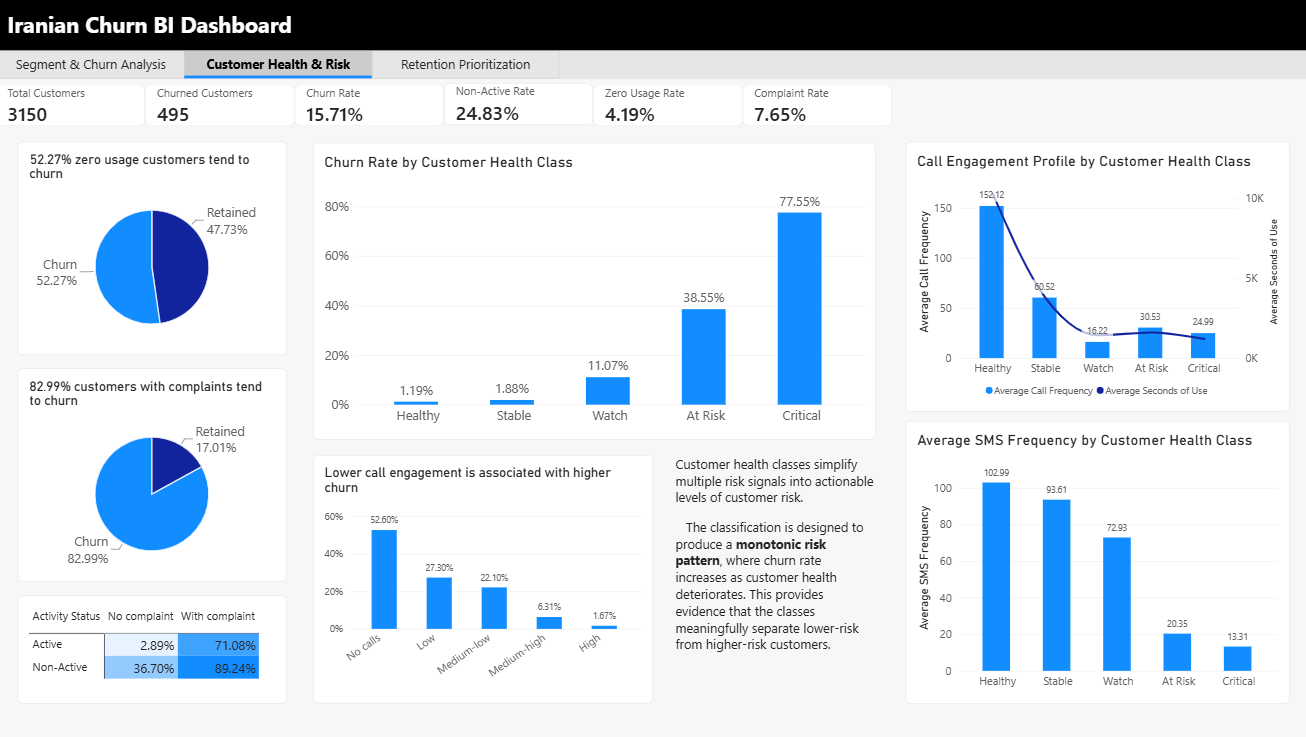

The dashboard page shown, as its layout file describes it:
{"tool":"powerbi","page":{"name":"Customer Health & Risk","canvas":[1920,1080],"ordinal":1},"visuals":[{"type":"group","id":"g1","title":"Group 2","box":[0,75,1918.3,43],"z":0,"group":"g4"},{"type":"cardVisual","fields":{"Data":["public customer_health_analytics.Zero Usage Rate"]},"box":[1421.7,221.3,213,149.1],"z":0},{"type":"group","id":"g2","title":"Group 3","box":[1.7,0,1918.3,75],"z":1000,"group":"g4"},{"type":"clusteredColumnChart","title":"Lower call engagement is associated with higher churn","fields":{"Category":["public customer_health_analytics.call_engagement_band"],"Y":["public customer_health_analytics.Churn Rate"]},"box":[462.7,667.2,497.3,363.5],"z":1000},{"type":"clusteredColumnChart","title":"Churn Rate by Customer Health Class","fields":{"Category":["public customer_health_analytics.health_class"],"Y":["public customer_health_analytics.Churn Rate"]},"box":[462.7,209.3,823,434.3],"z":2000},{"type":"lineClusteredColumnComboChart","title":"Call Engagement Profile by Customer Health Class","fields":{"Category":["public customer_health_analytics.health_class"],"Y":["public customer_health_analytics.Average Call Frequency"],"Y2":["public customer_health_analytics.Average Seconds of Use"]},"box":[1329.8,207.7,561.8,395],"z":3000},{"type":"clusteredColumnChart","title":"Average SMS Frequency by Customer Health Class","fields":{"Category":["public customer_health_analytics.health_class"],"Y":["public customer_health_analytics.Average SMS Frequency"]},"box":[1329.8,616.8,561.8,413.9],"z":4000},{"type":"shape","title":"csacasc","box":[1.7,0,1918.3,75],"z":5000,"group":"g2"},{"type":"pieChart","title":"52.27% zero usage customers tend to churn","fields":{"Category":["public customer_health_analytics.Churn Status"],"Y":["public customer_health_analytics.Zero Usage Customers"]},"box":[31.5,207.7,393.4,312],"z":5000},{"type":"shape","box":[0,75.5,1918.3,42.5],"z":6000,"group":"g1"},{"type":"pieChart","title":"82.99% customers with complaints tend to churn","fields":{"Category":["public customer_health_analytics.Churn Status"],"Y":["public customer_health_analytics.Complaint Customers"]},"box":[31.5,540,393,312],"z":6000},{"type":"cardVisual","fields":{"Data":["public customer_health_analytics.Total Customers"]},"box":[0,124.6,218,61],"z":7000,"group":"g3"},{"type":"pivotTable","fields":{"Columns":["public customer_health_analytics.Complaint"],"Rows":["public customer_health_analytics.Activity Status"],"Values":["public customer_health_analytics.Churn Rate"]},"box":[31.5,871.8,393.4,158.9],"z":7000},{"type":"cardVisual","fields":{"Data":["public customer_health_analytics.Churned Customers"]},"box":[218.7,124.6,218,61],"z":8000,"group":"g3"},{"type":"textbox","box":[993.3,667,292.2,364.1],"z":8000},{"type":"group","id":"g3","title":"Group 1","box":[0,123,1310.1,62.7],"z":9000},{"type":"cardVisual","fields":{"Data":["public customer_health_analytics.Churn Rate"]},"box":[436.7,124.7,218,61],"z":9000,"group":"g3"},{"type":"group","id":"g4","title":"Group 4","box":[0,0,1920,118],"z":10000},{"type":"cardVisual","fields":{"Data":["public customer_health_analytics.Complaint Rate"]},"box":[1092.1,124.6,218,61],"z":12000,"group":"g3"},{"type":"cardVisual","fields":{"Data":["public customer_health_analytics.Non-Active Rate"]},"box":[655,123,218,61],"z":13000,"group":"g3"},{"type":"pageNavigator","box":[1.7,75,823.3,41.7],"z":14000,"group":"g1"},{"type":"cardVisual","fields":{"Data":["public customer_health_analytics.Zero Usage Rate"]},"box":[873.4,124.6,218,61],"z":14000,"group":"g3"},{"type":"textbox","box":[16.7,15,438.3,46.7],"z":15002,"group":"g2"}]}

Visuals, with their boxes in screenshot pixels (x1, y1, x2, y2), scaled from the page's 1920x1080 canvas onto the 1306x737 screenshot:
"Group 2" group: locate(0, 51, 1305, 81)
cardVisual - public customer_health_analytics.Zero Usage Rate: locate(967, 151, 1112, 253)
"Group 3" group: locate(1, 0, 1305, 51)
"Lower call engagement is associated with higher churn" clusteredColumnChart: locate(315, 455, 653, 703)
"Churn Rate by Customer Health Class" clusteredColumnChart: locate(315, 143, 875, 439)
"Call Engagement Profile by Customer Health Class" lineClusteredColumnComboChart: locate(905, 142, 1287, 411)
"Average SMS Frequency by Customer Health Class" clusteredColumnChart: locate(905, 421, 1287, 703)
"csacasc" shape: locate(1, 0, 1305, 51)
"52.27% zero usage customers tend to churn" pieChart: locate(21, 142, 289, 355)
shape: locate(0, 52, 1305, 81)
"82.99% customers with complaints tend to churn" pieChart: locate(21, 369, 289, 581)
cardVisual - public customer_health_analytics.Total Customers: locate(0, 85, 148, 127)
pivotTable - public customer_health_analytics.Complaint x public customer_health_analytics.Activity Status: locate(21, 595, 289, 703)
cardVisual - public customer_health_analytics.Churned Customers: locate(149, 85, 297, 127)
textbox: locate(676, 455, 874, 704)
"Group 1" group: locate(0, 84, 891, 127)
cardVisual - public customer_health_analytics.Churn Rate: locate(297, 85, 445, 127)
"Group 4" group: locate(0, 0, 1305, 81)
cardVisual - public customer_health_analytics.Complaint Rate: locate(743, 85, 891, 127)
cardVisual - public customer_health_analytics.Non-Active Rate: locate(446, 84, 594, 126)
pageNavigator: locate(1, 51, 561, 80)
cardVisual - public customer_health_analytics.Zero Usage Rate: locate(594, 85, 742, 127)
textbox: locate(11, 10, 309, 42)
